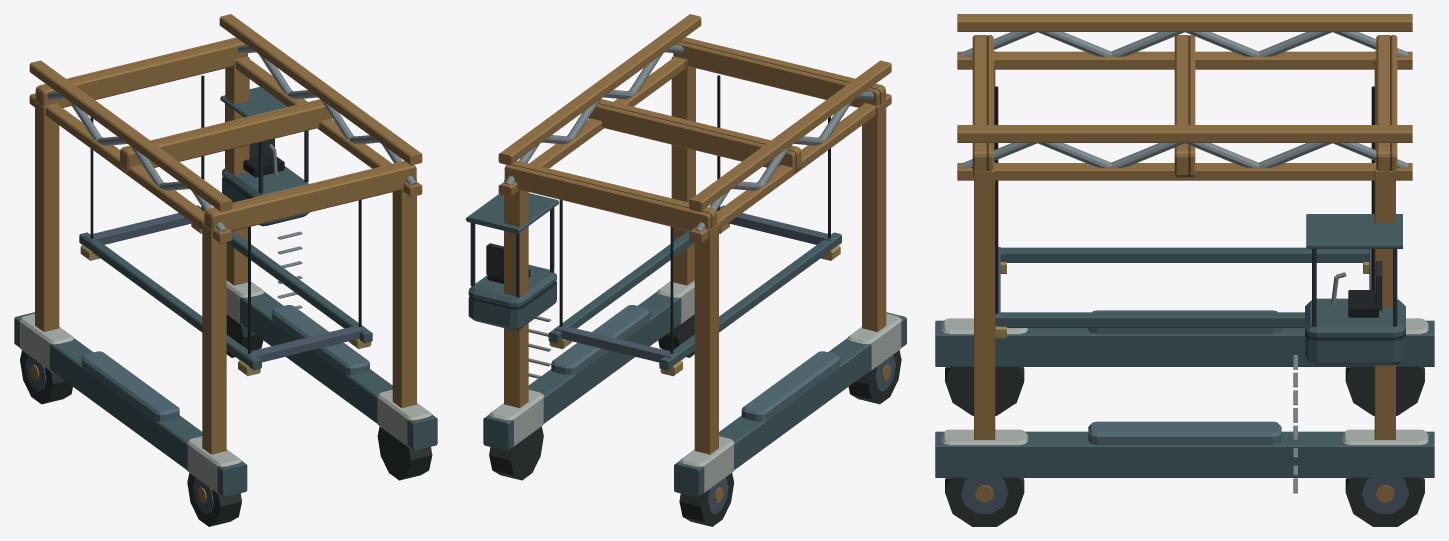
The model's file is HM-02_straddle_handler.glb.
The picture shows the model from 3 angles, left to right: view 1: azimuth 30°, elevation 25°; view 2: azimuth 150°, elevation 25°; view 3: azimuth 270°, elevation 25°; orthographic projection. The views are drawn at different scales.
Parts seen in each view (by area): view 1: HM-02_straddle_handler; view 2: HM-02_straddle_handler; view 3: HM-02_straddle_handler.
Boxes of the visible parts, box(x1,y1,x2,y2) form: HM-02_straddle_handler: box(14, 14, 437, 526); HM-02_straddle_handler: box(466, 14, 906, 526); HM-02_straddle_handler: box(935, 14, 1434, 526).
Bounding box in the file's own units: 4.9 × 6.23 × 7.18.
